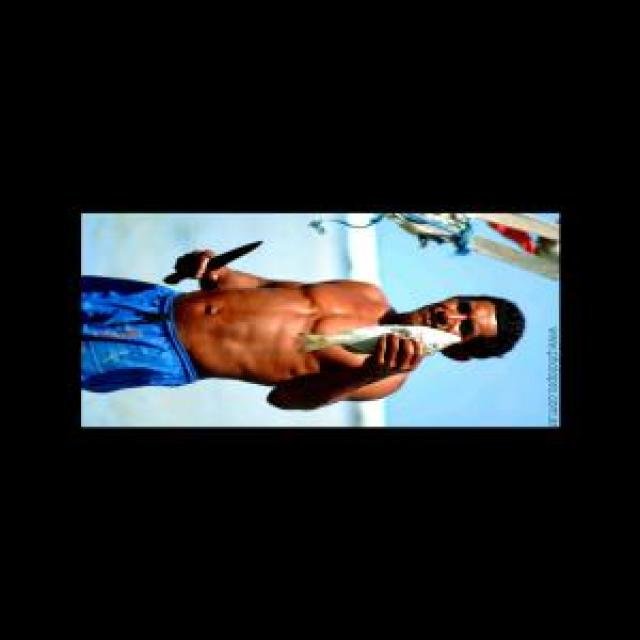knife: (166, 237, 262, 279)
